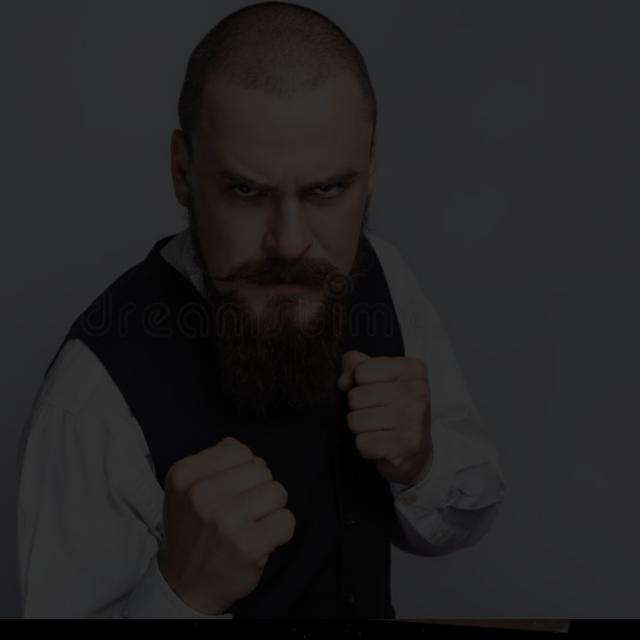Angry: (153, 59, 426, 393)
